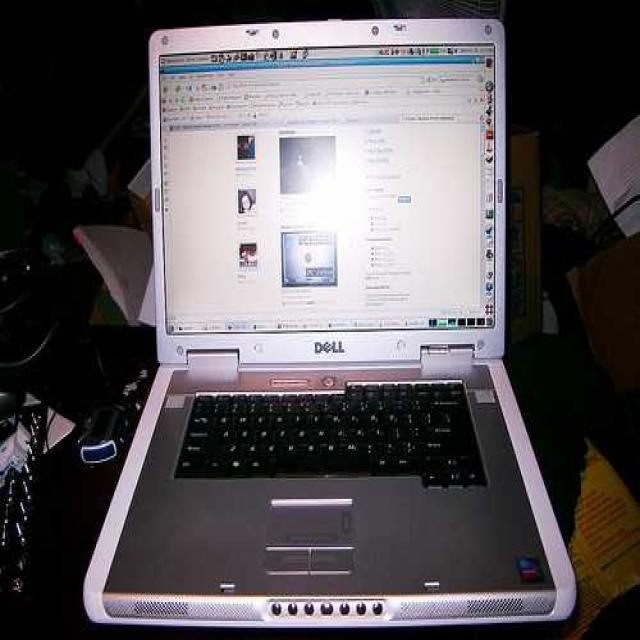laptop: (142, 22, 570, 624)
